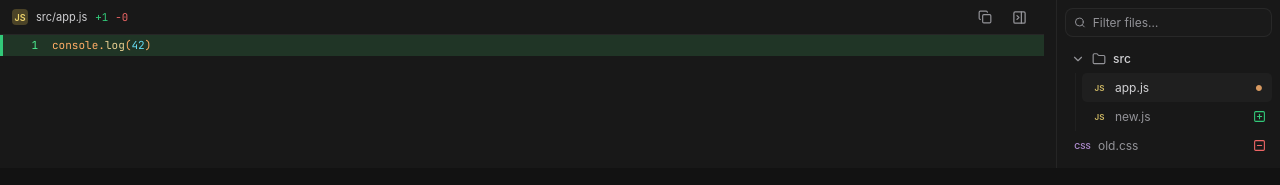
Scenario: filters folder navigation while preserving the selected diff and original changes
The width and height of the screenshot is (1280, 185).
Type "src/new" into the search field named "Filter changed files".
click(1178, 22); type("src/new")  # box [1093,9,1263,36]
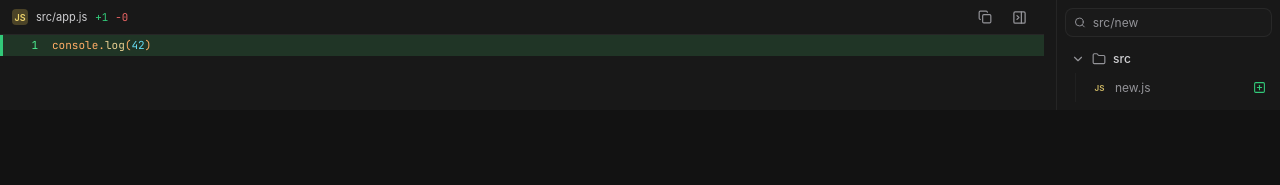
Expected: the button with aria-label "Open src/new.js" is shown, [1082,73,1272,102]
Expected: the element named "Changes to src/app.js" is shown, [0,0,1044,56]
Clear the search field named "Filter changed files" at (1178, 22), box [1093,9,1263,36]
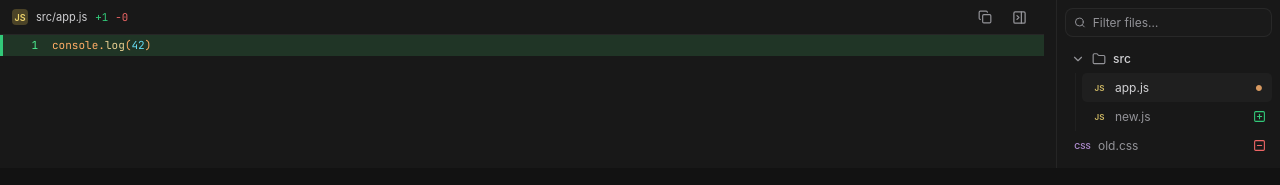
Now the button with aria-label "Open old.css" is shown, box [1065,131,1272,160]
